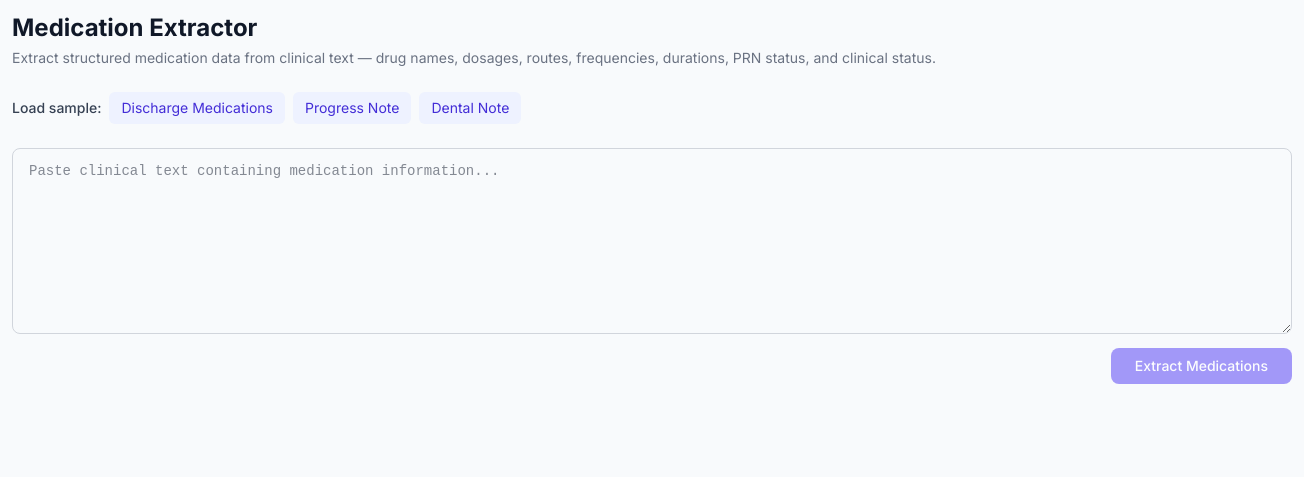
Scenario: MedicationExtractor › shows error message on API failure
Type "some text" into the text box with placeholder "Paste clinical text containing medication information...".
click(652, 241); type("some text")  # box [12,148,1292,334]
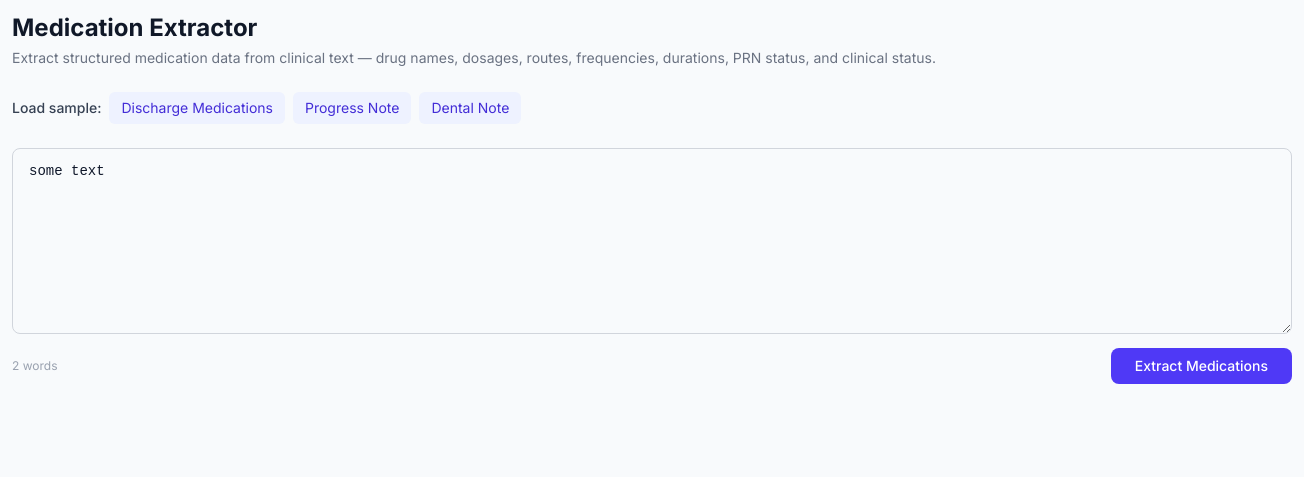
Click the button "Extract Medications".
click(1201, 366)  # box [1111,348,1292,384]
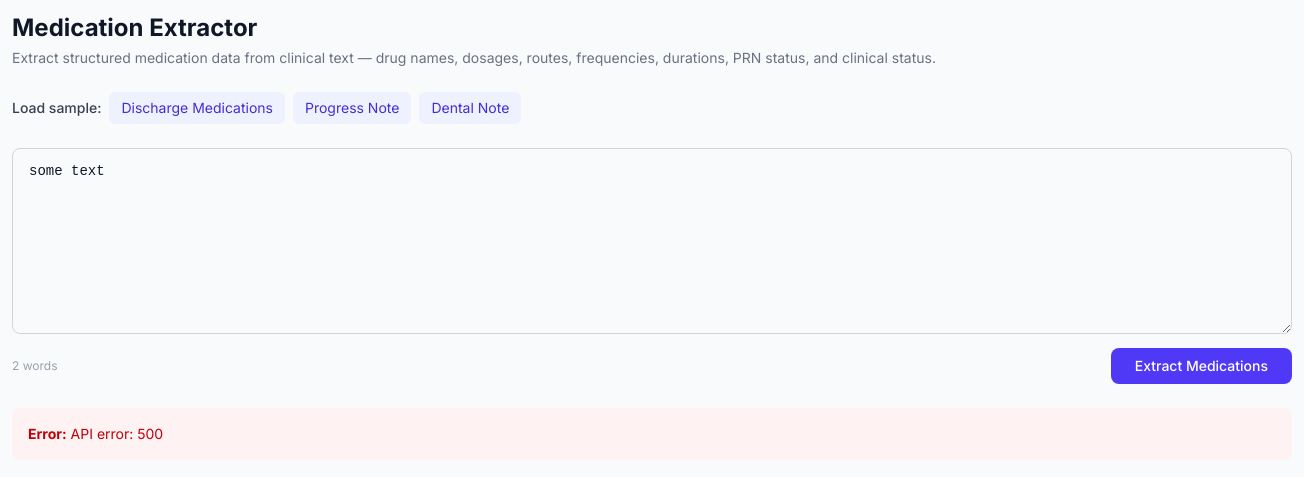
Now the text "Error: API error: 500" is shown, box [12,408,1292,460]
